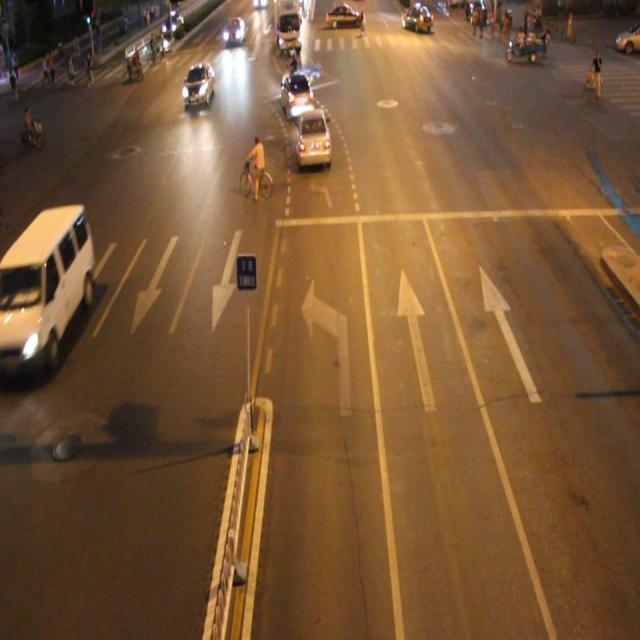car: (295, 104, 334, 164), (280, 67, 316, 119), (182, 61, 215, 111)
truck: (1, 204, 92, 377)
